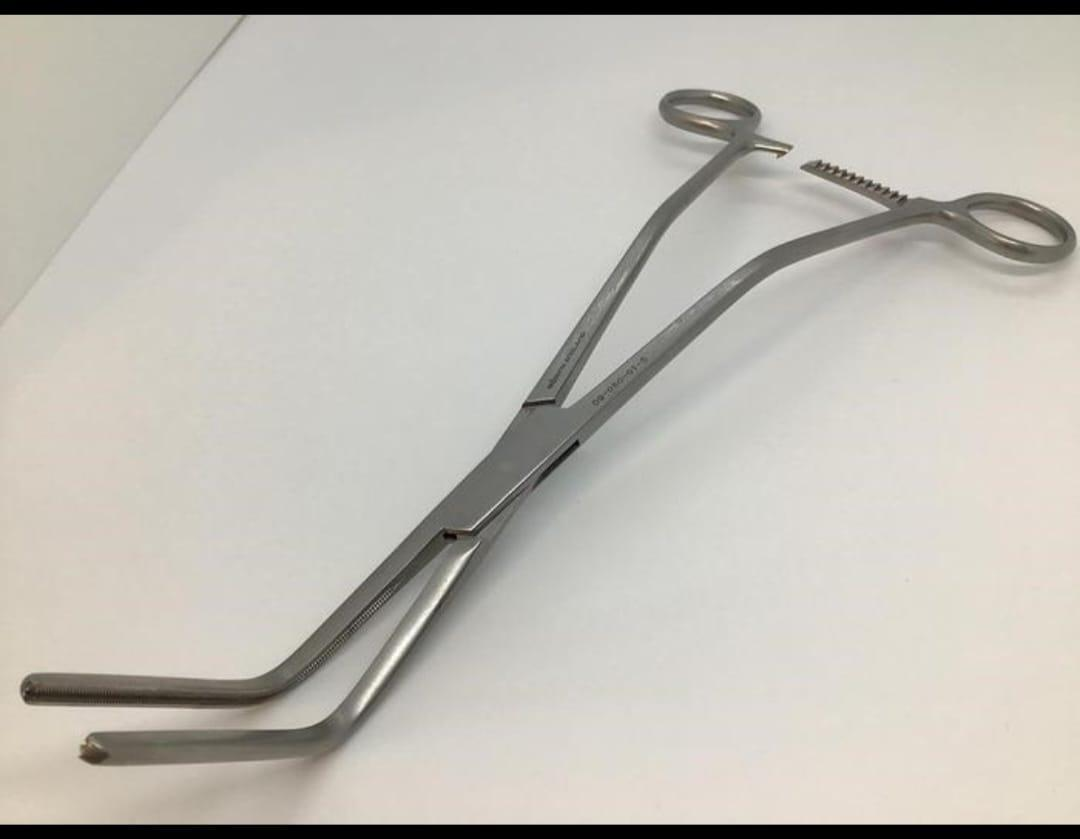Surgical blade: (20, 72, 1075, 782)
